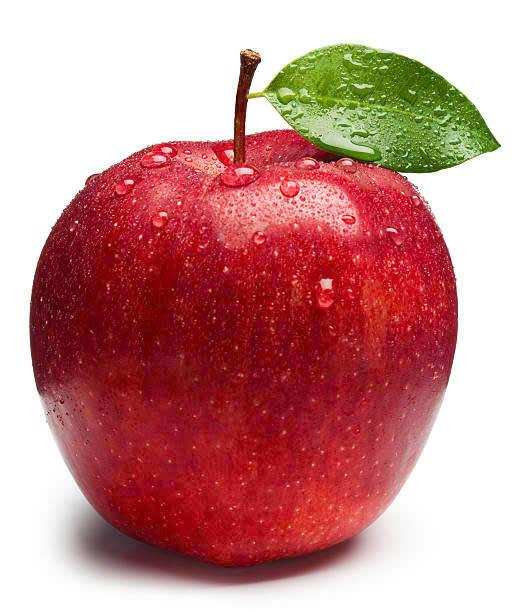apple: (36, 67, 468, 566)
